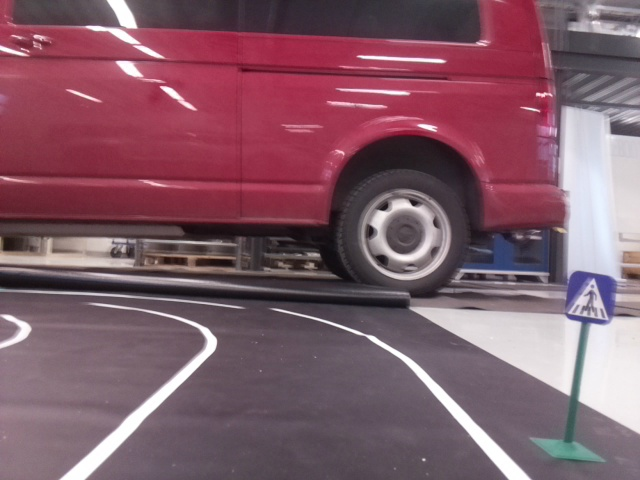Crosswalk: (566, 269, 612, 324)
